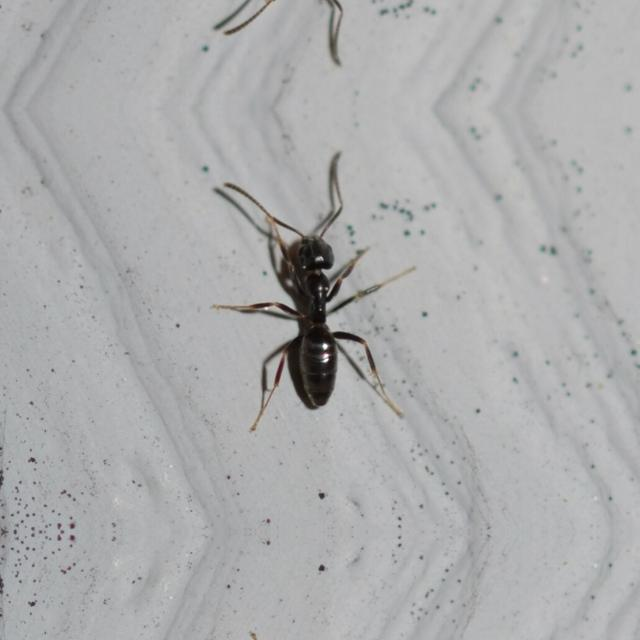Tapinoma: (216, 179, 407, 421)
